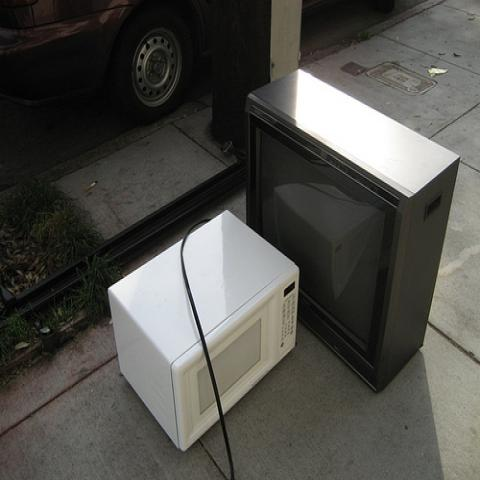car: (3, 1, 200, 113)
